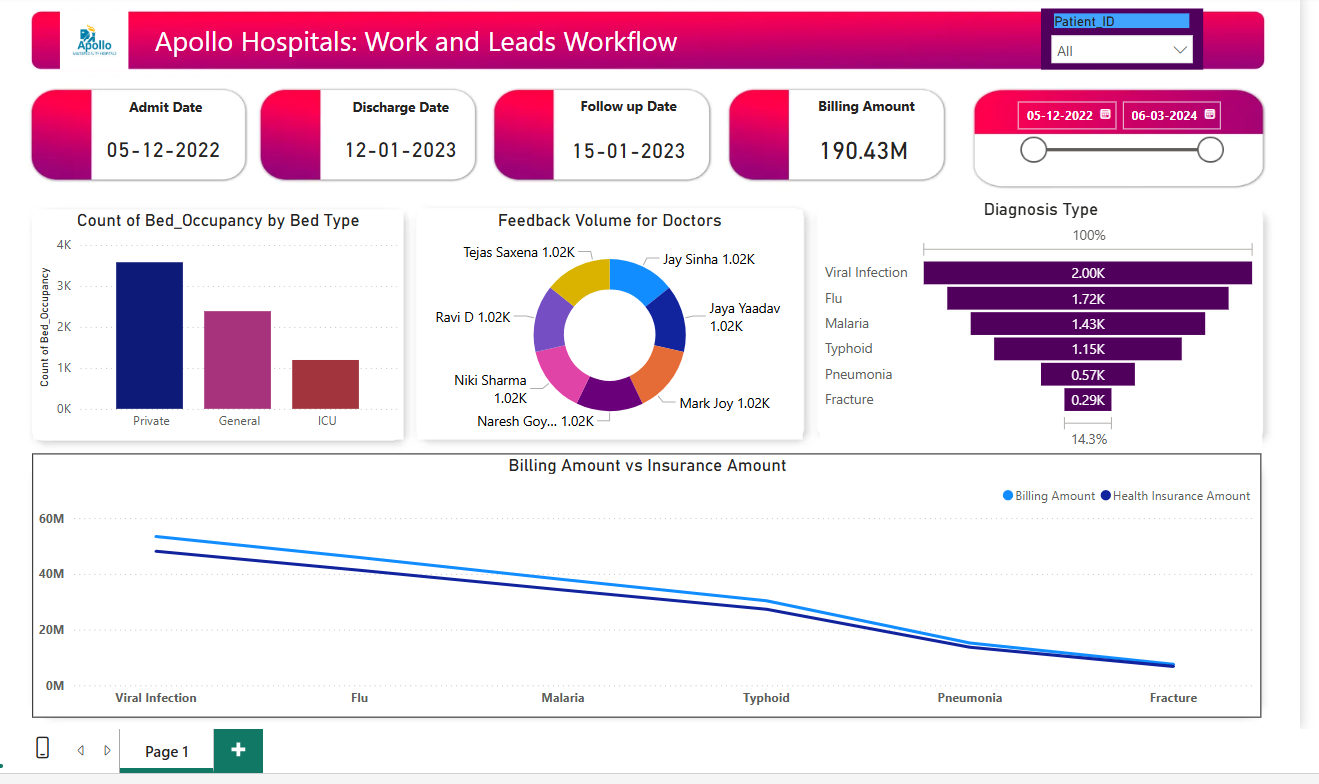

What the dashboard file says about the page in this screenshot:
{"tool":"powerbi","page":{"name":"Page 1","canvas":[1280,720],"ordinal":0},"visuals":[{"type":"image","box":[17,9,158,69],"z":0},{"type":"textbox","box":[151,21,554,45],"z":1000},{"type":"textbox","box":[113,94,107,30],"z":2000},{"type":"card","fields":{"Values":["Min(Sheet1.Admit_Date)"]},"box":[96.2,132.1,137.2,37.2],"z":3000},{"type":"textbox","box":[336,94,122,30],"z":4000},{"type":"card","fields":{"Values":["Min(Sheet1.Discharge_Date)"]},"box":[335.9,132.1,121.8,37.2],"z":5000},{"type":"textbox","box":[564.1,93.6,112.8,30.8],"z":6000},{"type":"card","fields":{"Values":["Min(Sheet1.Followup Date)"]},"box":[557.7,134.6,125.6,34.6],"z":7000},{"type":"slicer","fields":{"Values":["Sheet1.Patient_ID"]},"box":[1025.6,12.8,159,60.3],"z":8000},{"type":"textbox","box":[792.3,93.6,123.1,30.8],"z":9000},{"type":"card","fields":{"Values":["Sum(Sheet1.Billing Amount)"]},"box":[792.3,132.1,117.9,37.2],"z":10000},{"type":"slicer","fields":{"Values":["Sheet1.Admit_Date"]},"box":[989.7,93.6,223.1,98.7],"z":11000},{"type":"columnChart","fields":{"Category":["Sheet1.Bed_Occupancy"],"Y":["CountNonNull(Sheet1.Bed_Occupancy)"]},"box":[37.2,210.3,362.8,225.6],"z":12000},{"type":"donutChart","title":"Feedback Volume for Doctors","fields":{"Category":["Sheet1.Doctor"],"Y":["CountNonNull(Sheet1.Doctor)"]},"box":[414.1,210.3,378.2,225.6],"z":13000},{"type":"funnel","title":"Diagnosis Type","fields":{"Category":["Sheet1.Diagnosis"],"Y":["CountNonNull(Sheet1.Diagnosis)"]},"box":[809,198.7,434.6,250],"z":14000},{"type":"lineChart","title":"Billing Amount vs Insurance Amount","fields":{"Y":["Sum(Sheet1.Billing Amount)","Sum(Sheet1.Health Insurance Amount)"],"Category":["Sheet1.Diagnosis"]},"box":[35.9,448.7,1206.4,259],"z":15000}]}

Visuals, with their boxes on the page's 1280x720 design canvas (x1, y1, x2, y2). These are canvas units, not pixel positions in the 1319x784 screenshot, which may show the page scaled, cropped or inside an application window:
image: {"x1": 17, "y1": 9, "x2": 175, "y2": 78}
textbox: {"x1": 151, "y1": 21, "x2": 705, "y2": 66}
textbox: {"x1": 113, "y1": 94, "x2": 220, "y2": 124}
card - Min(Sheet1.Admit_Date): {"x1": 96, "y1": 132, "x2": 233, "y2": 169}
textbox: {"x1": 336, "y1": 94, "x2": 458, "y2": 124}
card - Min(Sheet1.Discharge_Date): {"x1": 336, "y1": 132, "x2": 458, "y2": 169}
textbox: {"x1": 564, "y1": 94, "x2": 677, "y2": 124}
card - Min(Sheet1.Followup Date): {"x1": 558, "y1": 135, "x2": 683, "y2": 169}
slicer - Sheet1.Patient_ID: {"x1": 1026, "y1": 13, "x2": 1185, "y2": 73}
textbox: {"x1": 792, "y1": 94, "x2": 915, "y2": 124}
card - Sum(Sheet1.Billing Amount): {"x1": 792, "y1": 132, "x2": 910, "y2": 169}
slicer - Sheet1.Admit_Date: {"x1": 990, "y1": 94, "x2": 1213, "y2": 192}
columnChart - Sheet1.Bed_Occupancy x CountNonNull(Sheet1.Bed_Occupancy): {"x1": 37, "y1": 210, "x2": 400, "y2": 436}
"Feedback Volume for Doctors" donutChart: {"x1": 414, "y1": 210, "x2": 792, "y2": 436}
"Diagnosis Type" funnel: {"x1": 809, "y1": 199, "x2": 1244, "y2": 449}
"Billing Amount vs Insurance Amount" lineChart: {"x1": 36, "y1": 449, "x2": 1242, "y2": 708}
